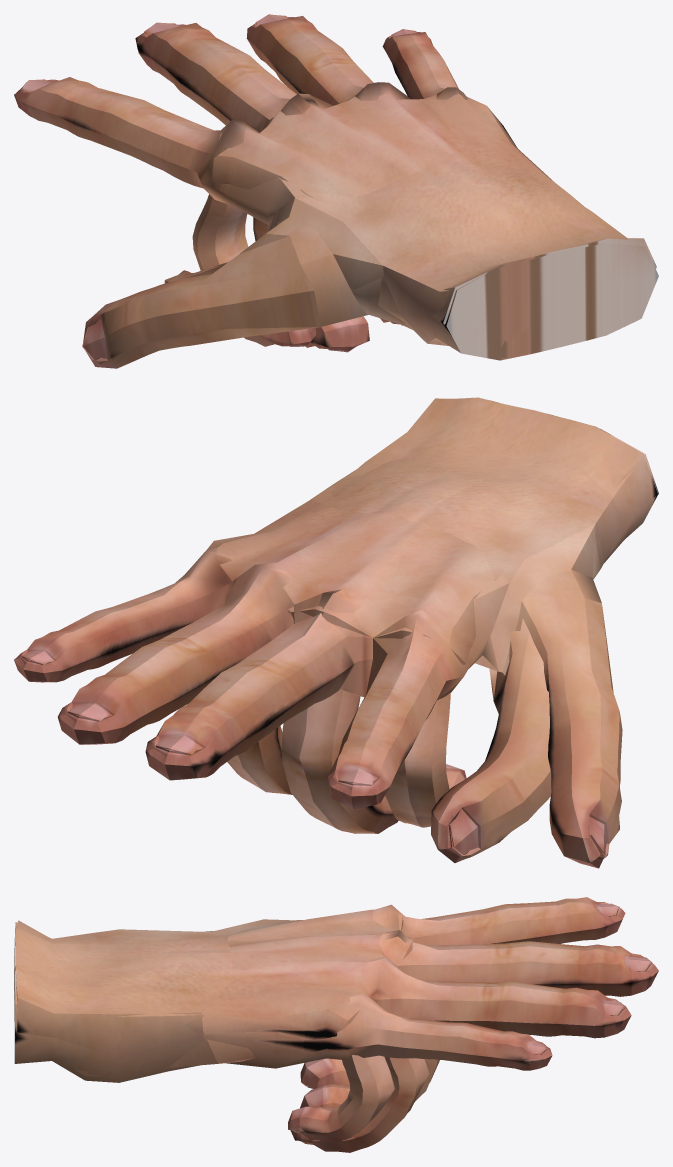
The model's file is righthand.fbx.
The picture shows the model from 3 angles, top to bottom: view 1: azimuth 30°, elevation 25°; view 2: azimuth 150°, elevation 25°; view 3: azimuth 270°, elevation 25°; orthographic projection. The views are drawn at different scales.
Parts seen in each view (by area): view 1: rightopenHand, rightfist; view 2: rightopenHand, rightfist; view 3: rightopenHand, rightfist.
Boxes of the visible parts, bbox=[...] form: rightopenHand: bbox=[14, 14, 658, 368]; rightfist: bbox=[164, 93, 656, 358]; rightopenHand: bbox=[14, 428, 658, 868]; rightfist: bbox=[187, 397, 657, 862]; rightopenHand: bbox=[14, 897, 658, 1082]; rightfist: bbox=[14, 909, 439, 1152].
Size of the model in its own units: 12.62 by 6.33 by 18.53.
